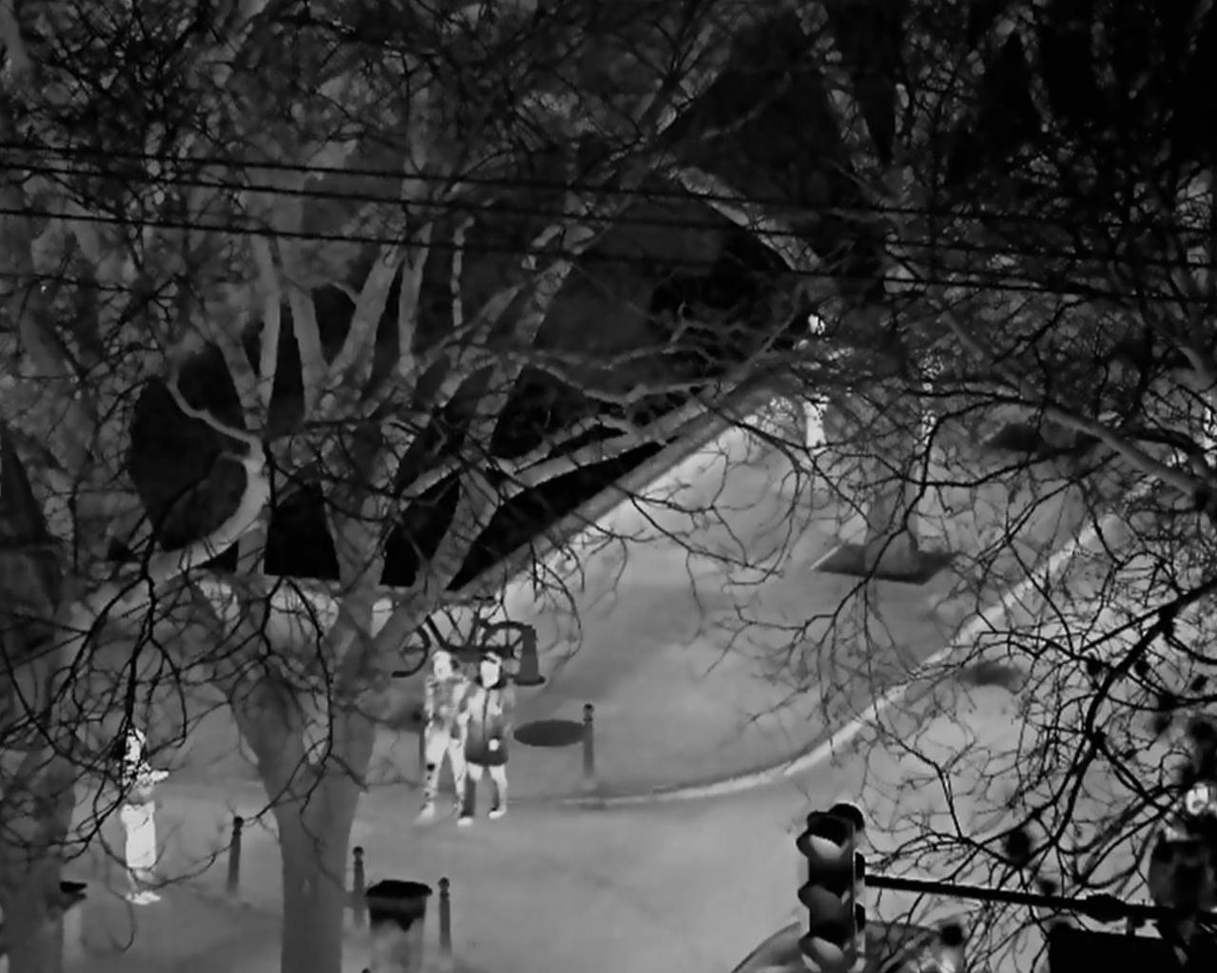person: (119, 727, 175, 904), (415, 650, 470, 830), (460, 652, 511, 828)
